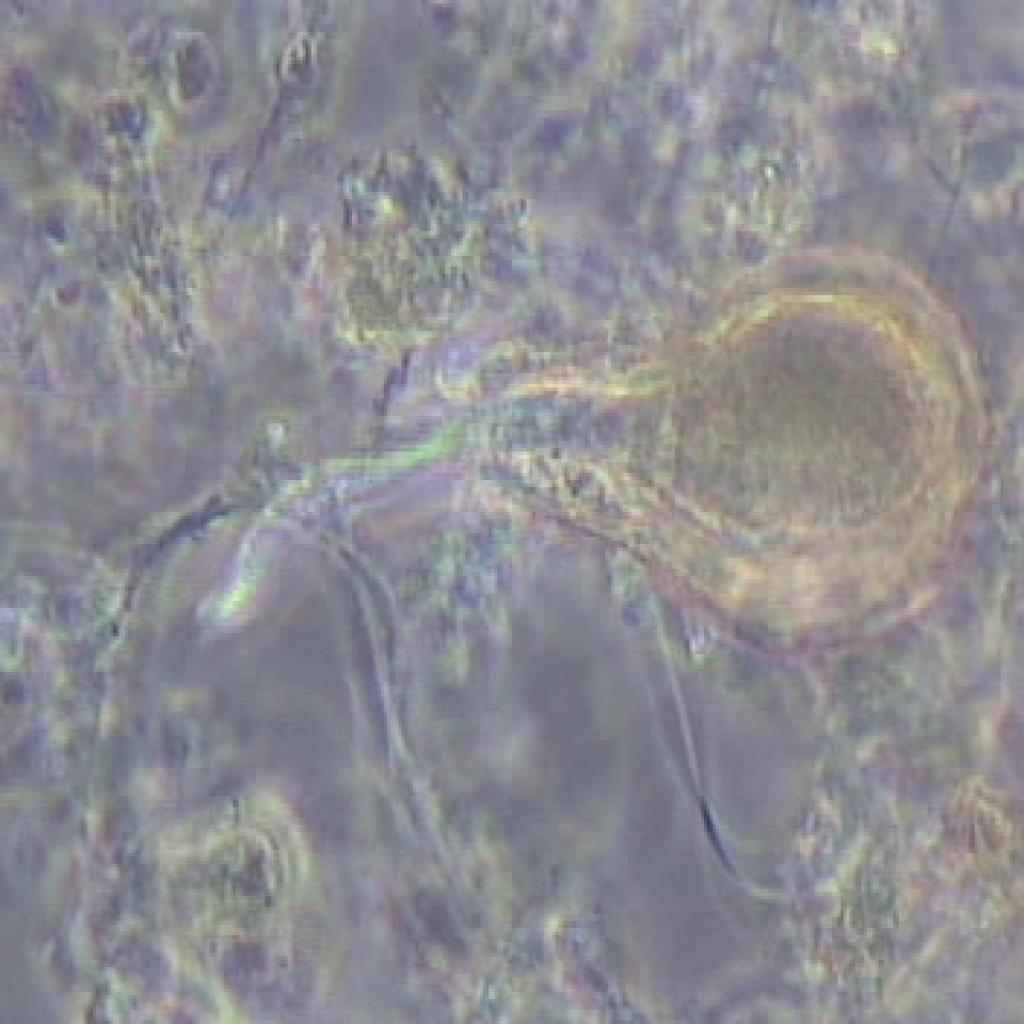Chaetopira: (231, 249, 991, 654)
